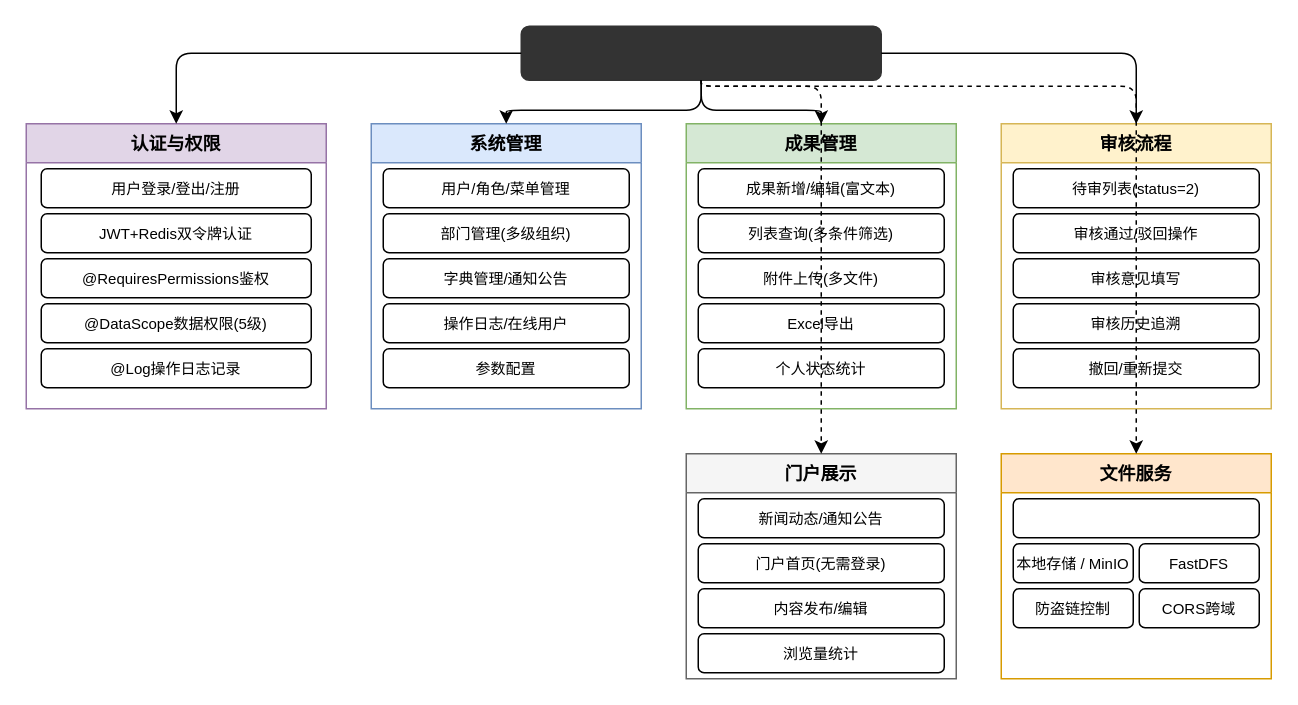
This 1298x705 diagram has some shape labels left out. Here are the shapes that lost their labels. From the top down, the centre of each, then its label:
At point (700, 52): "高校教学成果管理系统".
At point (1135, 517): "文件上传/下载".
